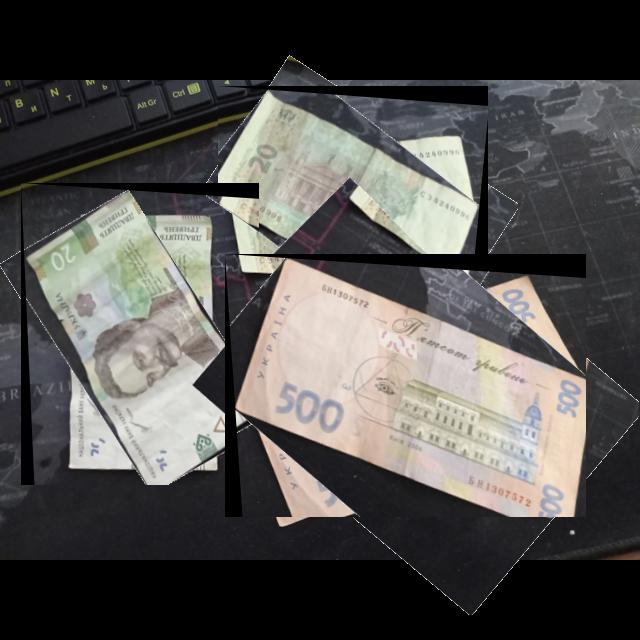20uah: (24, 189, 260, 486), (218, 89, 482, 299)
500uah: (233, 257, 587, 518)
